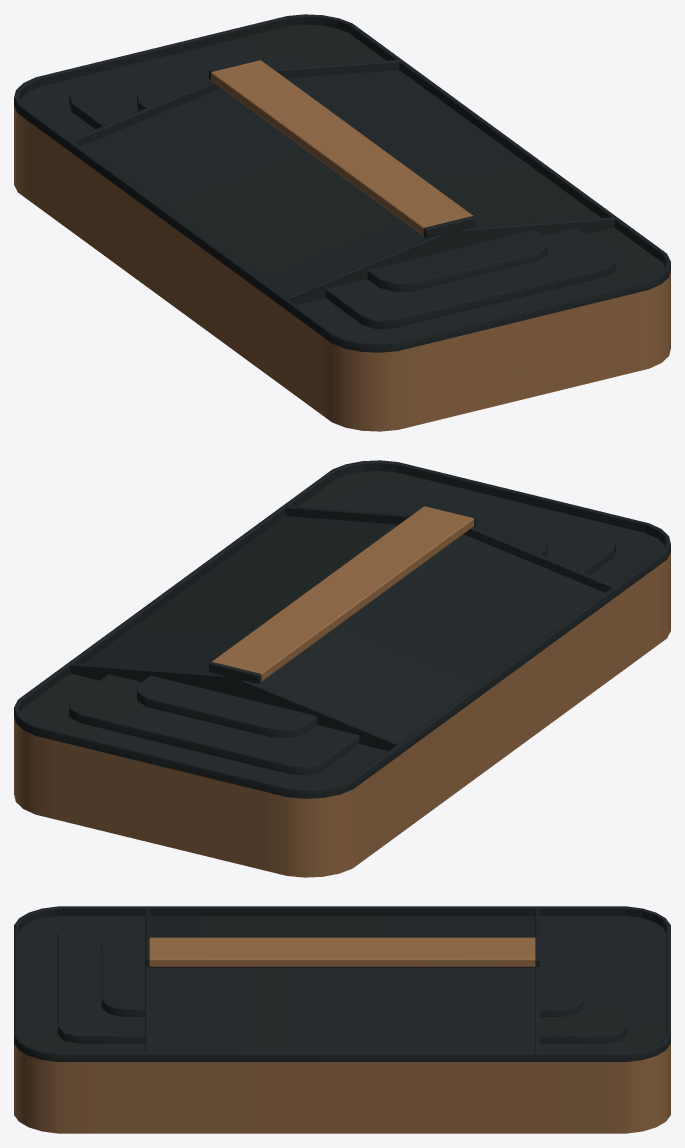
The model's file is Produce_Bin_Wide_Col.glb.
The picture shows the model from 3 angles, top to bottom: view 1: azimuth 30°, elevation 25°; view 2: azimuth 150°, elevation 25°; view 3: azimuth 270°, elevation 25°; orthographic projection. The views are drawn at different scales.
Parts seen in each view (by area): view 1: Produce_Bin_Wide_col; view 2: Produce_Bin_Wide_col; view 3: Produce_Bin_Wide_col.
Boxes of the visible parts, left/top/right/bottom form: Produce_Bin_Wide_col: left=14, top=14, right=670, bottom=431; Produce_Bin_Wide_col: left=14, top=460, right=670, bottom=877; Produce_Bin_Wide_col: left=14, top=906, right=670, bottom=1133.
Size of the model in its own units: 4 by 1.4 by 7.5.
1 material, 1 textured.
